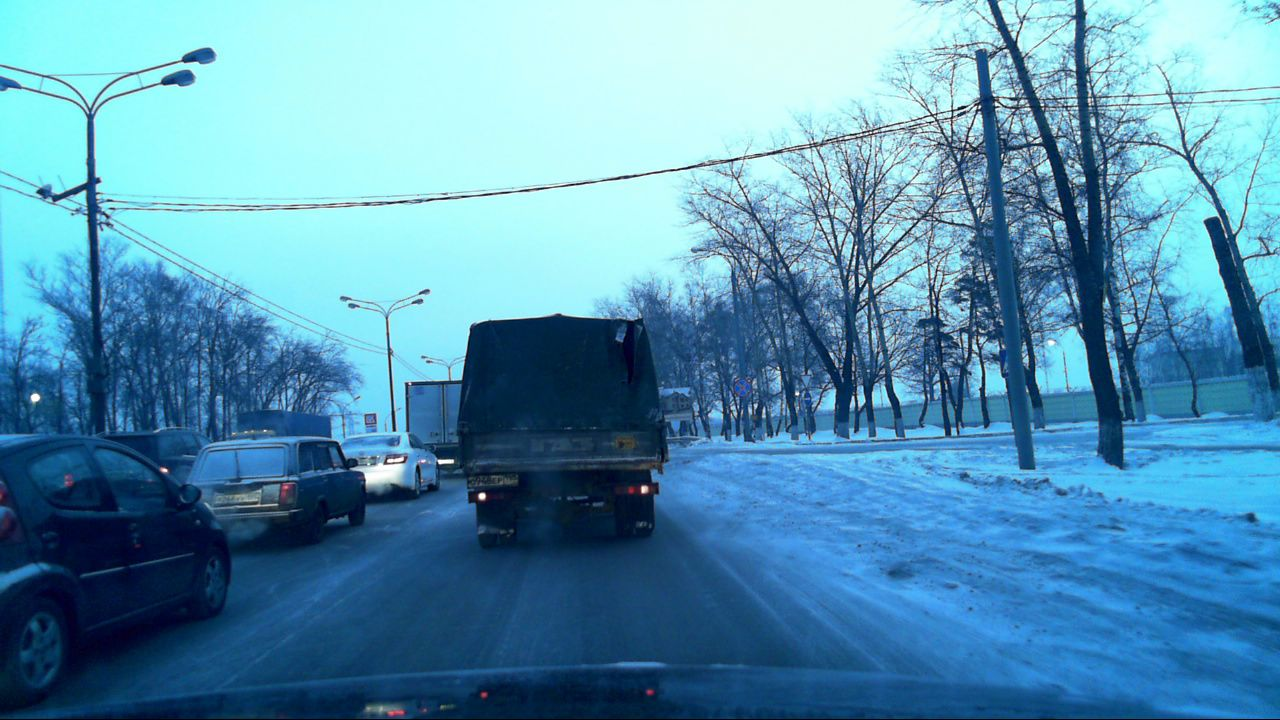No Parking: (732, 378, 751, 398)
